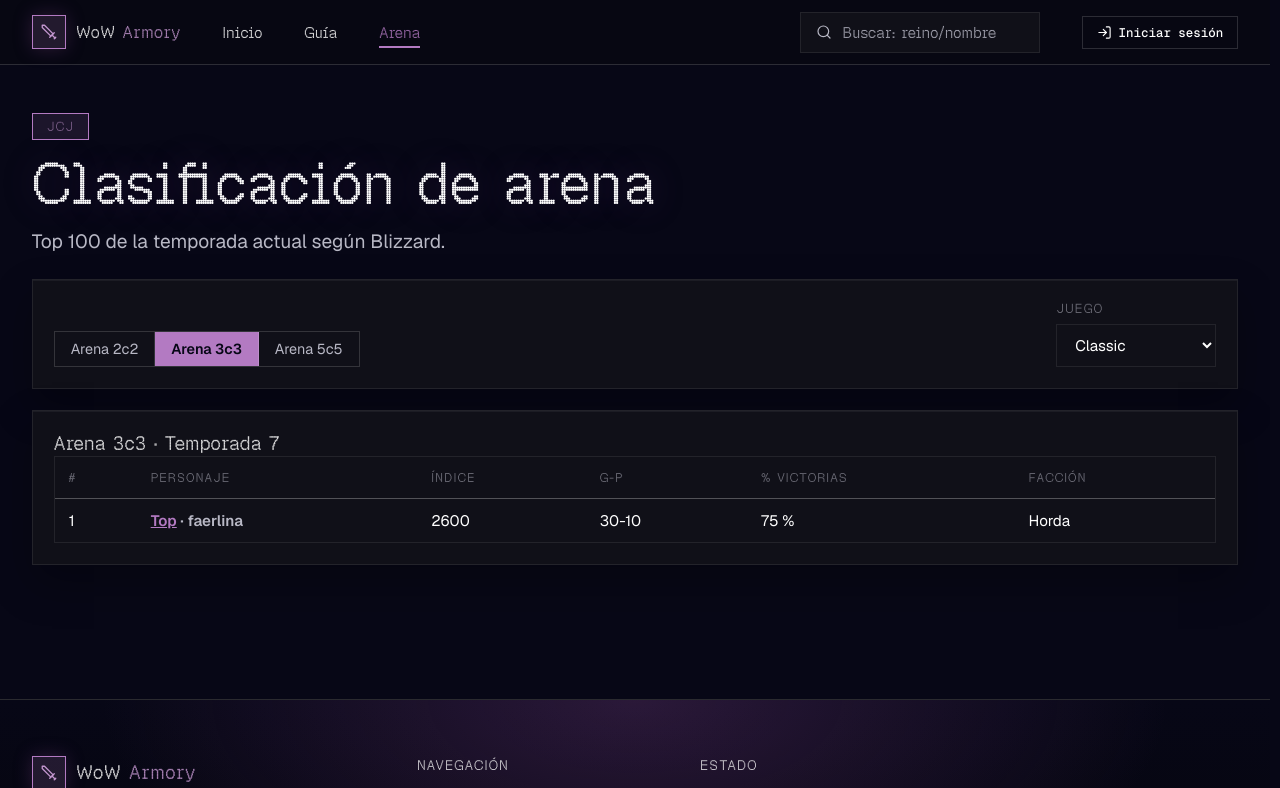
it: LeaderboardsPage › lists entries and switches bracket
Expected: the text "75 %" is shown, [747,499,1014,542]
Expected: the heading "Arena 3c3 · Temporada 7" is shown, [54,431,280,456]
Click the button "Arena 2c2" at (105, 349), box [55,332,155,366]
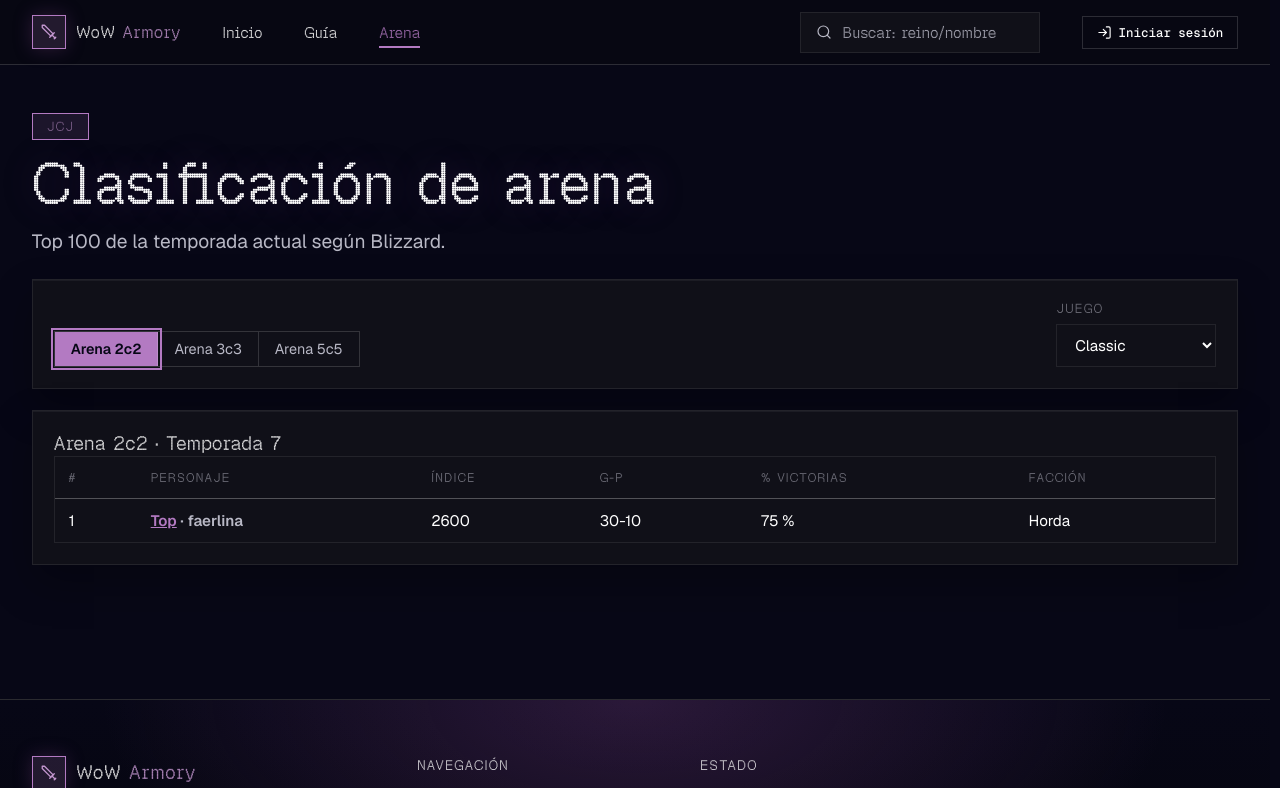
Expected: the button "Arena 2c2" is pressed, [55,332,158,366]
